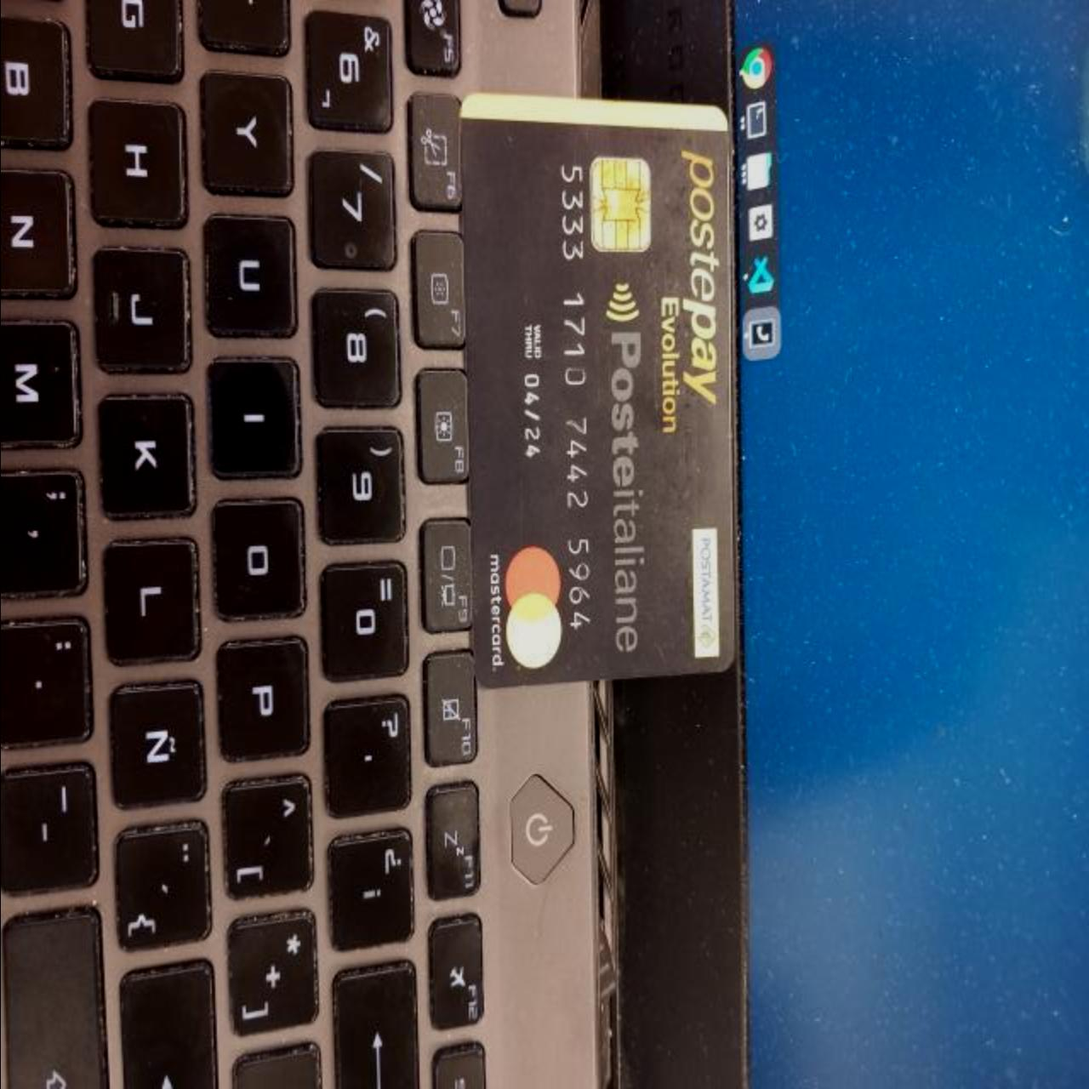credit_card: (466, 78, 755, 704)
